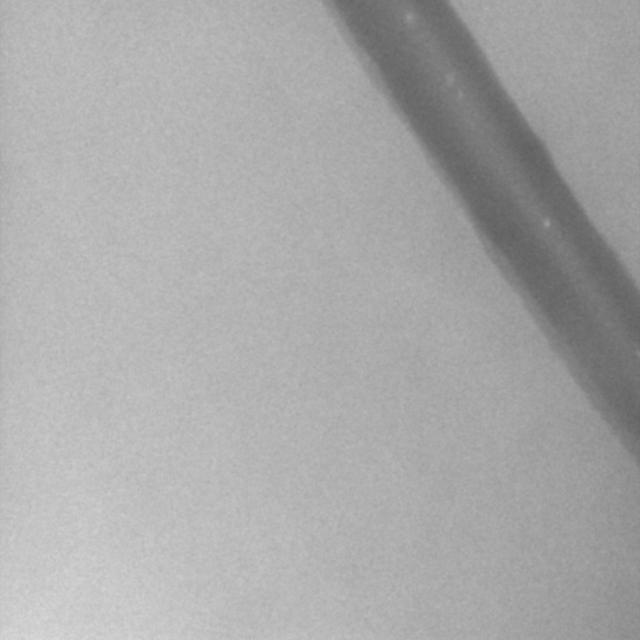air hole: (540, 217, 551, 229)
